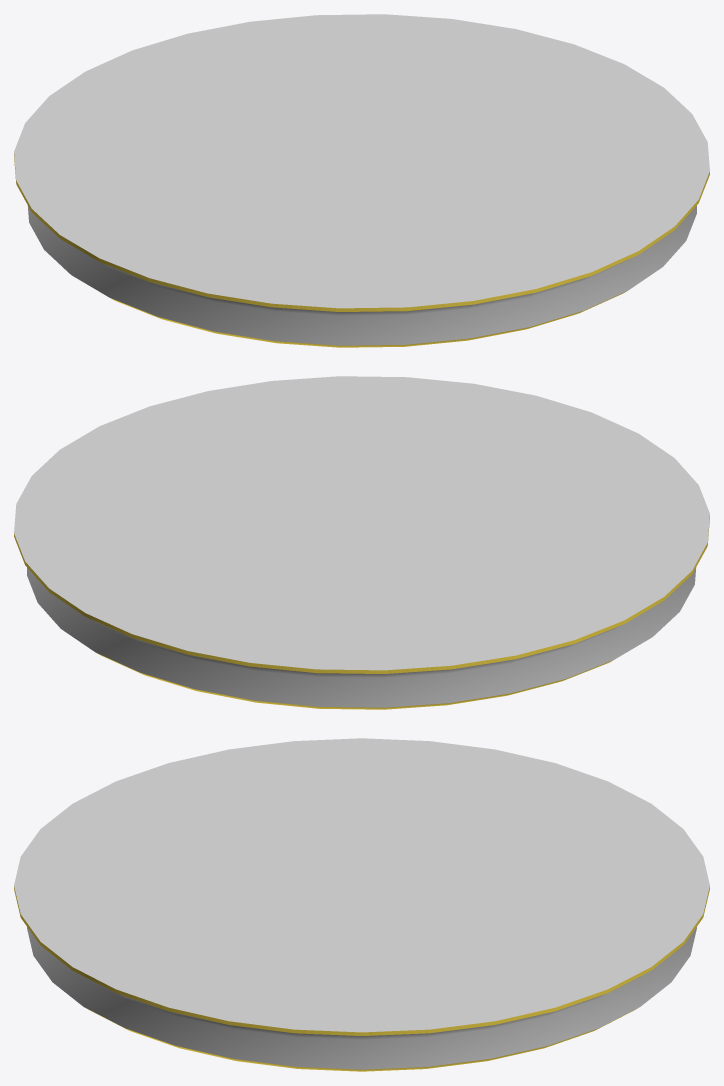
Rendered from platform_01.fbx.
3 views of the same model, one above another, from view 1: azimuth 30°, elevation 25°; view 2: azimuth 150°, elevation 25°; view 3: azimuth 270°, elevation 25° (orthographic).
Parts seen in each view (by area): view 1: platform; view 2: platform; view 3: platform.
Part boxes in pixels (box(x1,y1,x2,y2)): platform: box(14, 14, 709, 347); platform: box(14, 376, 709, 709); platform: box(14, 738, 709, 1071).
Size of the model in its own units: 228 by 17.17 by 228.
